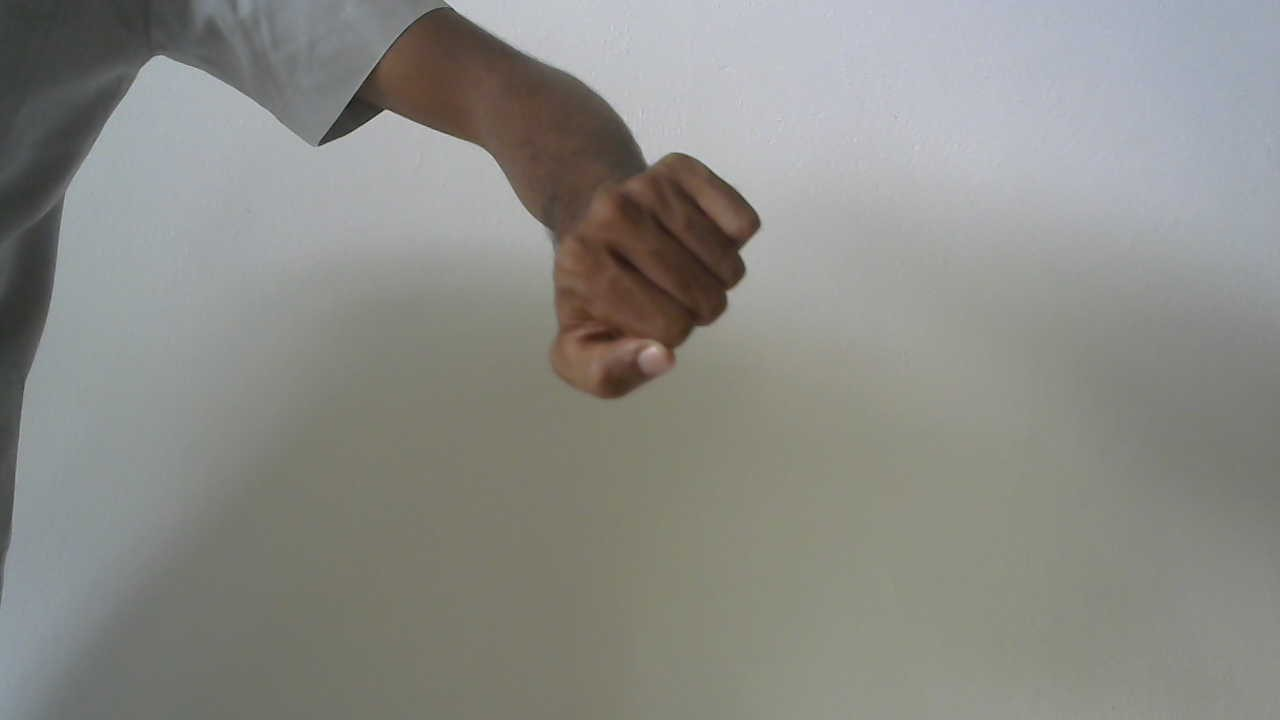yes: (537, 86, 783, 429)
